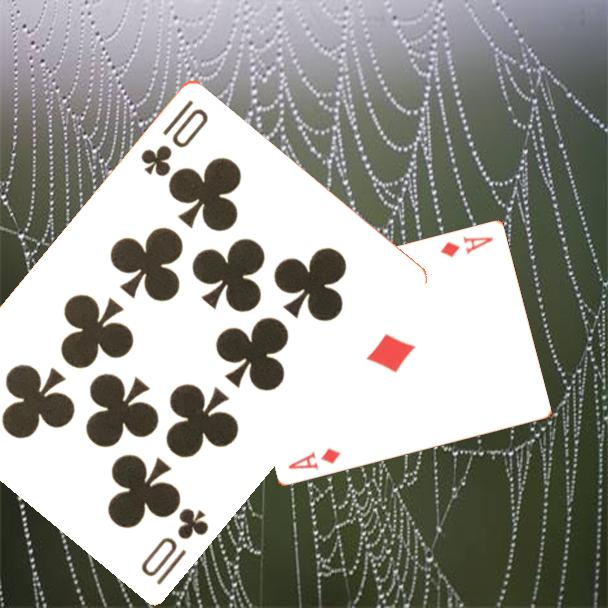c10: (136, 95, 212, 179), (137, 503, 212, 588)
d01: (284, 445, 343, 473), (436, 233, 496, 260)
